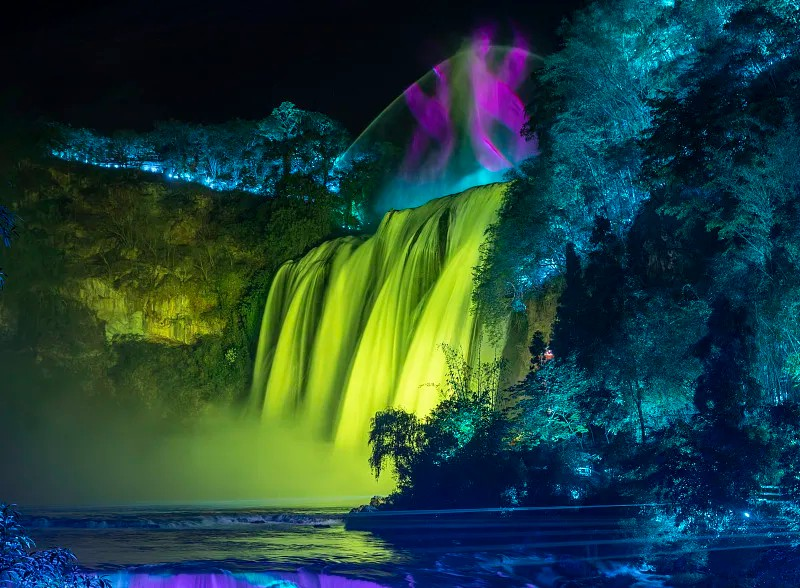Huangguoshu: (251, 183, 509, 467)
